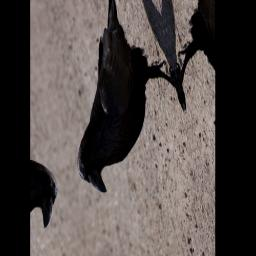Crow: (42, 0, 193, 207)
